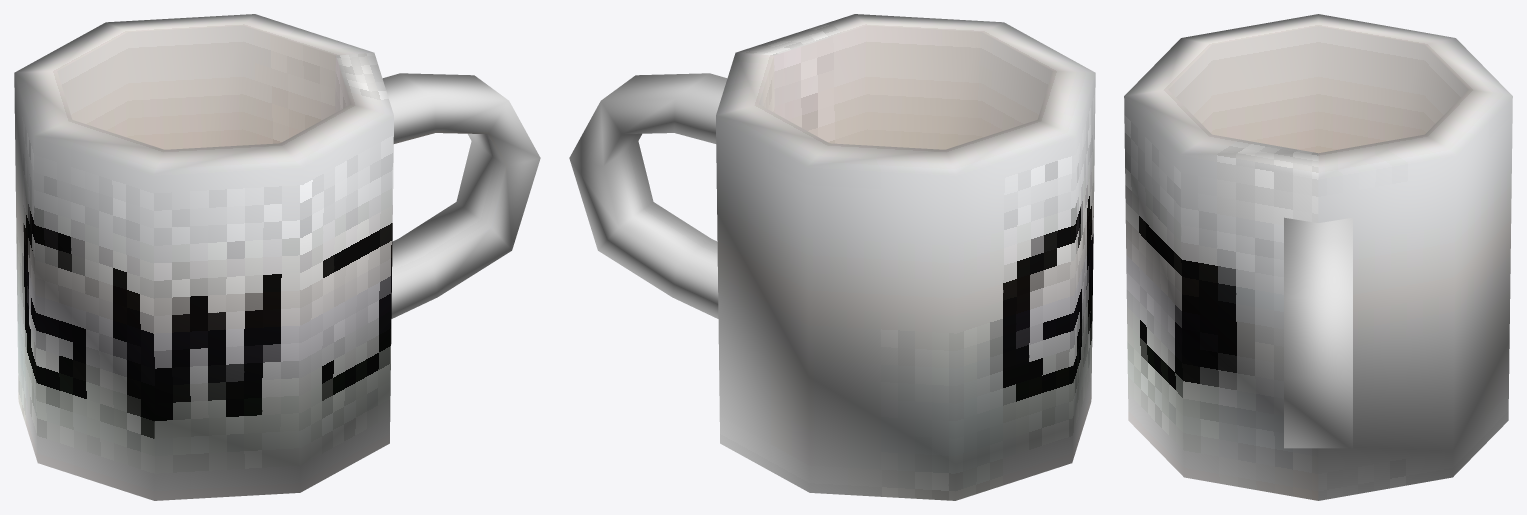
Rendered from CoffeMug.glb.
3 views of the same model, side by side, from view 1: azimuth 30°, elevation 25°; view 2: azimuth 150°, elevation 25°; view 3: azimuth 270°, elevation 25° (orthographic).
Visible parts, largest first — view 1: Mug; view 2: Mug; view 3: Mug.
Part boxes in pixels (left/top/right/bottom): Mug: left=14, top=14, right=540, bottom=500; Mug: left=569, top=14, right=1095, bottom=500; Mug: left=1124, top=14, right=1512, bottom=500.
Size of the model in its own units: 0.2071 by 0.1354 by 0.1441.
Materials: 1 (1 with a texture image).
